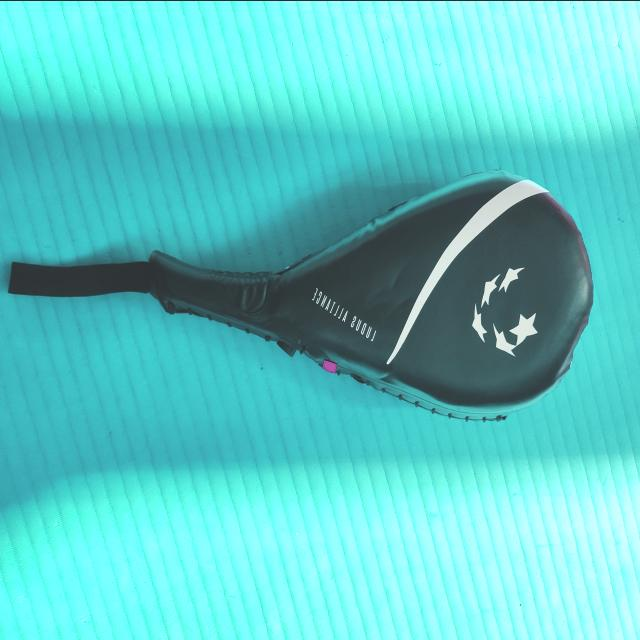paddle: (146, 164, 596, 424)
